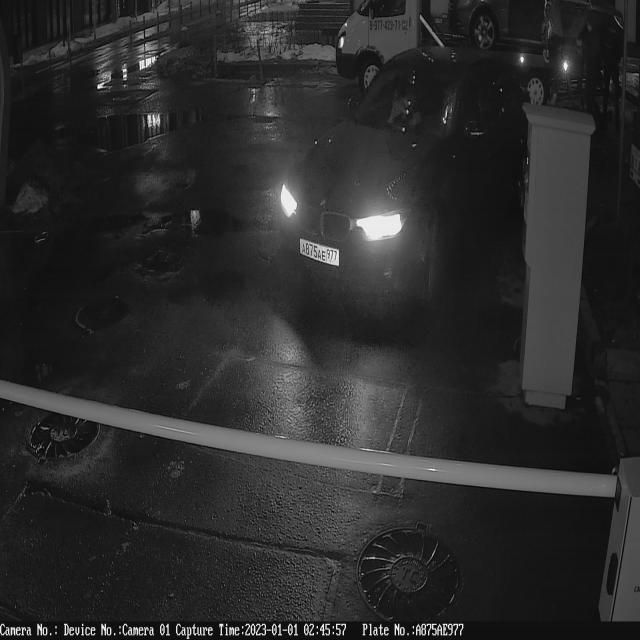car-plate-numbers: (300, 236, 342, 269)
